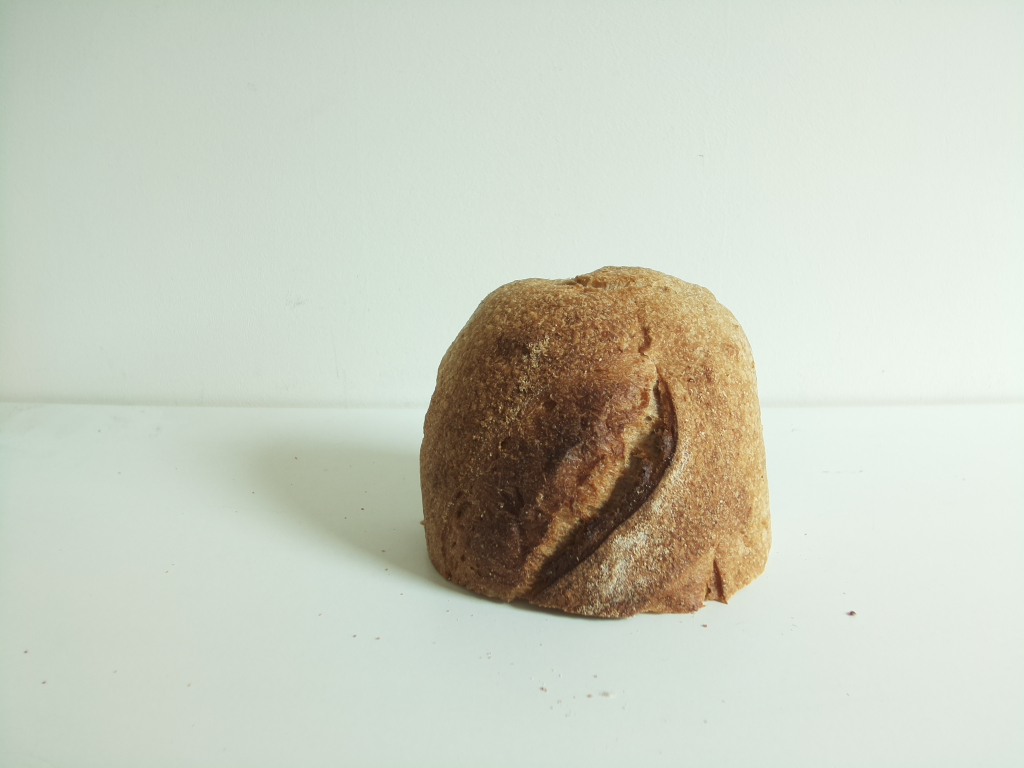bread: (417, 263, 777, 619)
